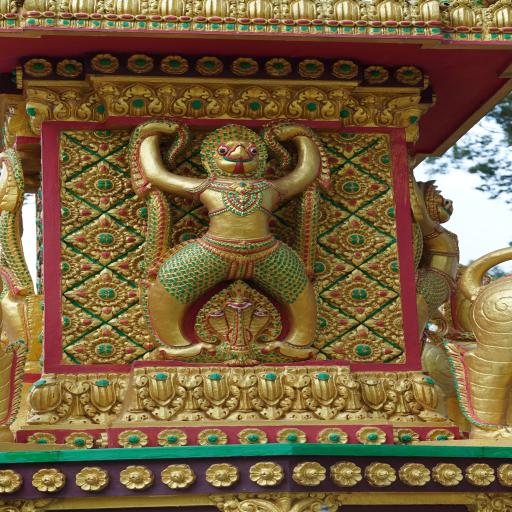hoa: (321, 264, 395, 322), (322, 318, 402, 368), (64, 273, 148, 320), (60, 320, 144, 366), (65, 158, 135, 206), (67, 214, 141, 259), (101, 190, 180, 231), (105, 238, 173, 285), (322, 213, 385, 262), (112, 296, 170, 349), (360, 238, 416, 292), (55, 290, 100, 354), (324, 162, 382, 210), (306, 296, 356, 351), (300, 244, 351, 294), (355, 133, 404, 185), (361, 296, 411, 346), (52, 242, 104, 289), (358, 190, 406, 236), (55, 186, 100, 234), (315, 126, 382, 158), (62, 126, 129, 156), (58, 133, 98, 183), (322, 456, 361, 488), (396, 459, 434, 491), (290, 460, 330, 490), (74, 463, 114, 492), (196, 464, 240, 490), (242, 459, 281, 488), (26, 465, 68, 491), (160, 461, 195, 492), (268, 426, 313, 450), (109, 424, 152, 449), (117, 461, 153, 488), (326, 56, 360, 84), (365, 458, 396, 488), (88, 50, 121, 78), (60, 428, 98, 452), (294, 54, 326, 82), (154, 54, 191, 78), (192, 425, 230, 448), (119, 52, 155, 76), (260, 55, 294, 80), (156, 426, 190, 450), (430, 460, 460, 487), (232, 426, 267, 449), (351, 423, 386, 446), (228, 53, 260, 78), (359, 63, 392, 87), (190, 54, 224, 76), (460, 462, 491, 486), (392, 424, 420, 450), (396, 61, 425, 85), (22, 57, 53, 79), (54, 57, 82, 80), (314, 428, 346, 448), (423, 424, 454, 444), (0, 466, 22, 494), (25, 429, 57, 448), (7, 62, 26, 92), (495, 460, 512, 488)
la: (131, 374, 195, 422), (350, 375, 402, 427), (244, 372, 298, 422), (189, 374, 243, 420), (22, 373, 66, 429), (394, 378, 448, 422), (81, 377, 131, 424), (299, 374, 350, 419), (166, 82, 219, 116), (344, 94, 398, 126), (230, 87, 280, 119), (52, 86, 92, 125), (115, 82, 160, 116), (285, 88, 334, 118), (78, 86, 122, 118), (24, 86, 54, 132)
ran: (0, 144, 34, 444), (186, 278, 291, 362)
than: (120, 105, 356, 372), (405, 162, 467, 350)
